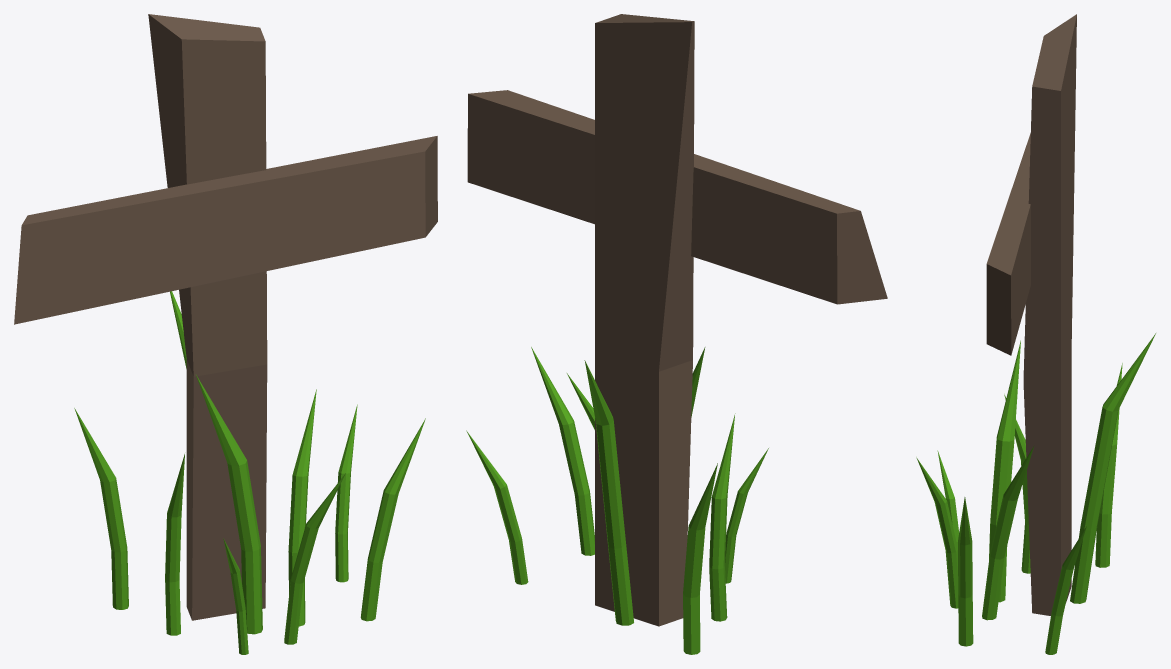
File: Isl_1_Grave_2.fbx
3 renders of one model, left to right at view 1: azimuth 30°, elevation 25°; view 2: azimuth 150°, elevation 25°; view 3: azimuth 270°, elevation 25°, orthographic. The views are drawn at different scales.
Visible parts, largest first — view 1: Isl_1_Grave_2; view 2: Isl_1_Grave_2; view 3: Isl_1_Grave_2.
Boxes of the visible parts, <box> form: Isl_1_Grave_2: <box>14,14,437,654</box>; Isl_1_Grave_2: <box>466,14,887,654</box>; Isl_1_Grave_2: <box>916,14,1155,654</box>.
Bounding box in the file's own units: 106 × 57.04 × 146.
1 material, 1 textured.
